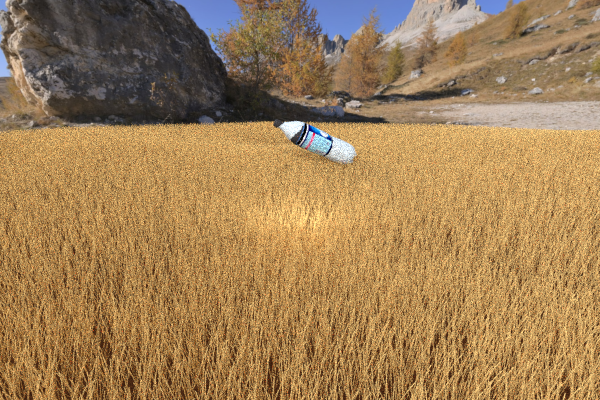bottle: (273, 119, 356, 165)
can: (463, 127, 497, 150)
